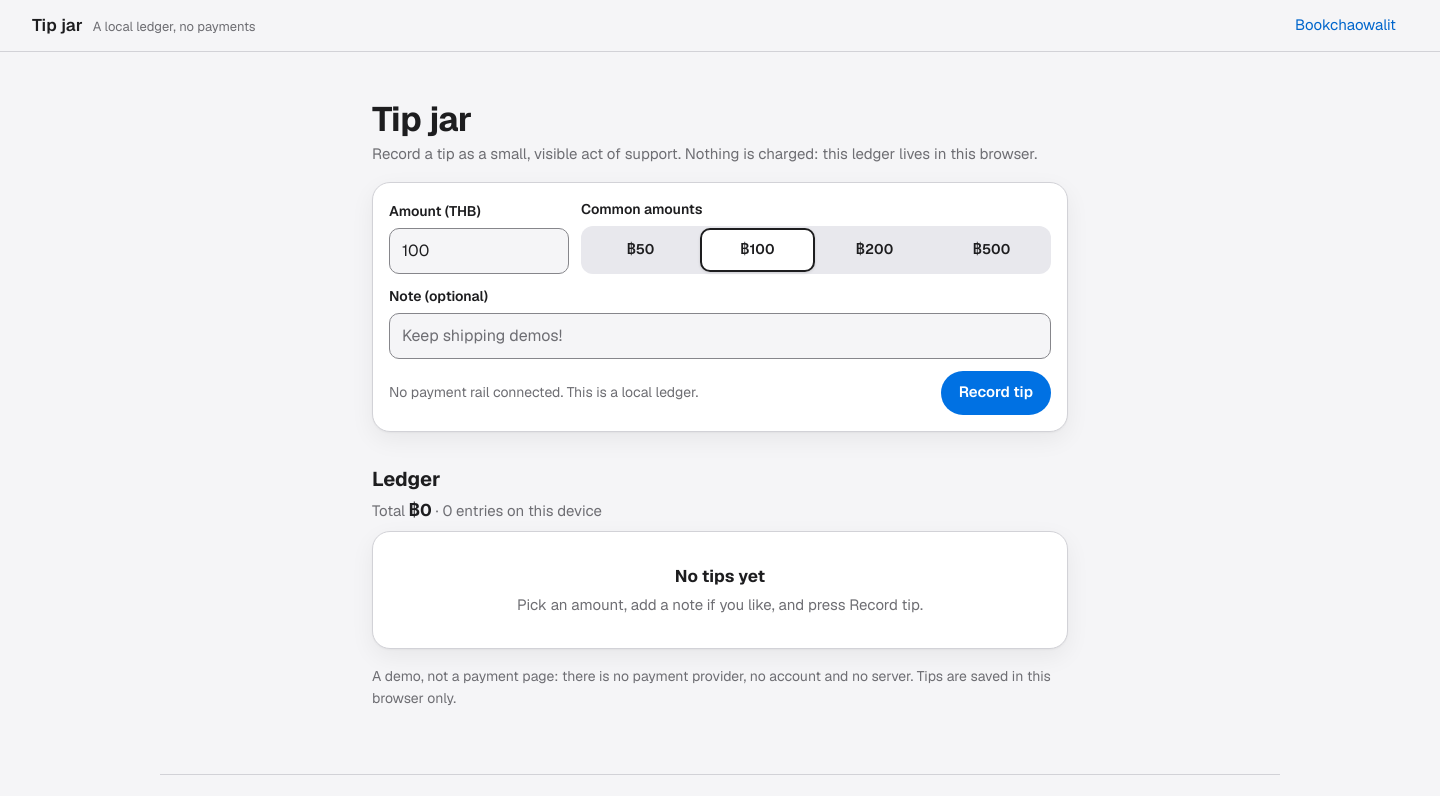
it: batch Undo › a remove then a clear inside the window restore together, keeping a tip recorded in between
The width and height of the screenshot is (1440, 796).
Later steps or results of the test are not shown.
Click the button "฿50" at (640, 250), box x1=583 y1=228 x2=698 y2=272
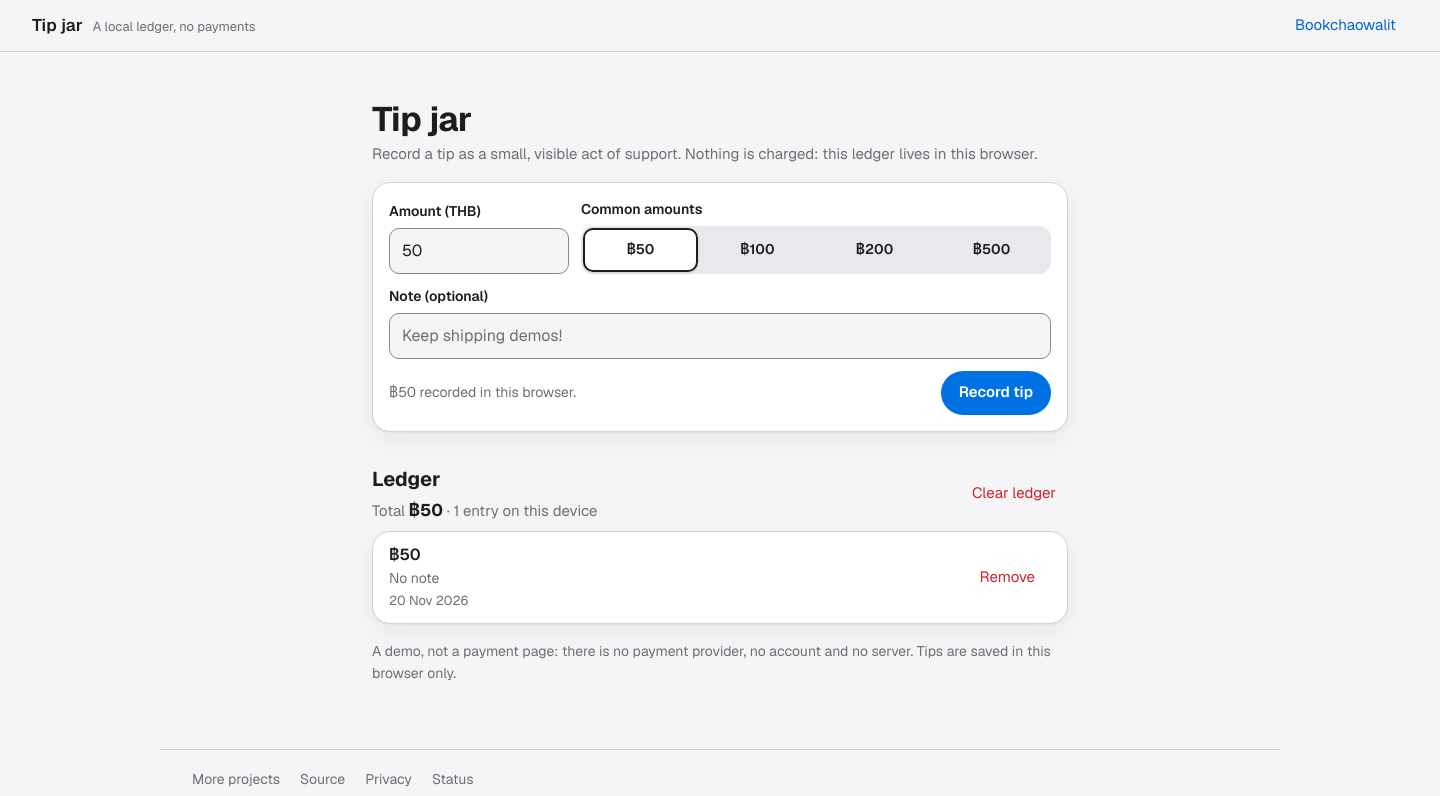
Click the button "฿100" at (758, 250), box x1=700 y1=228 x2=815 y2=272
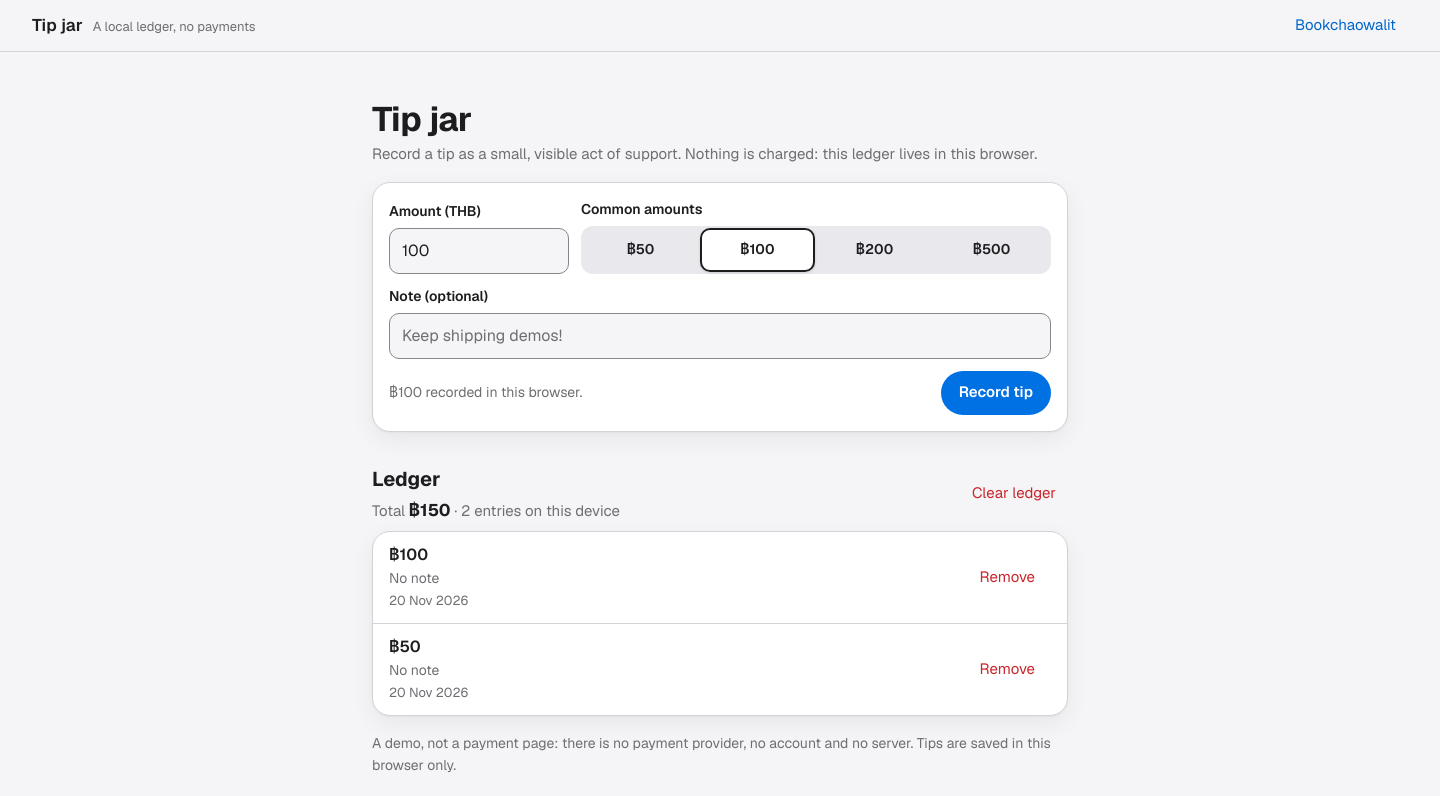
Click the 3rd button with class "as-danger" at (1007, 669), box x1=968 y1=647 x2=1047 y2=691
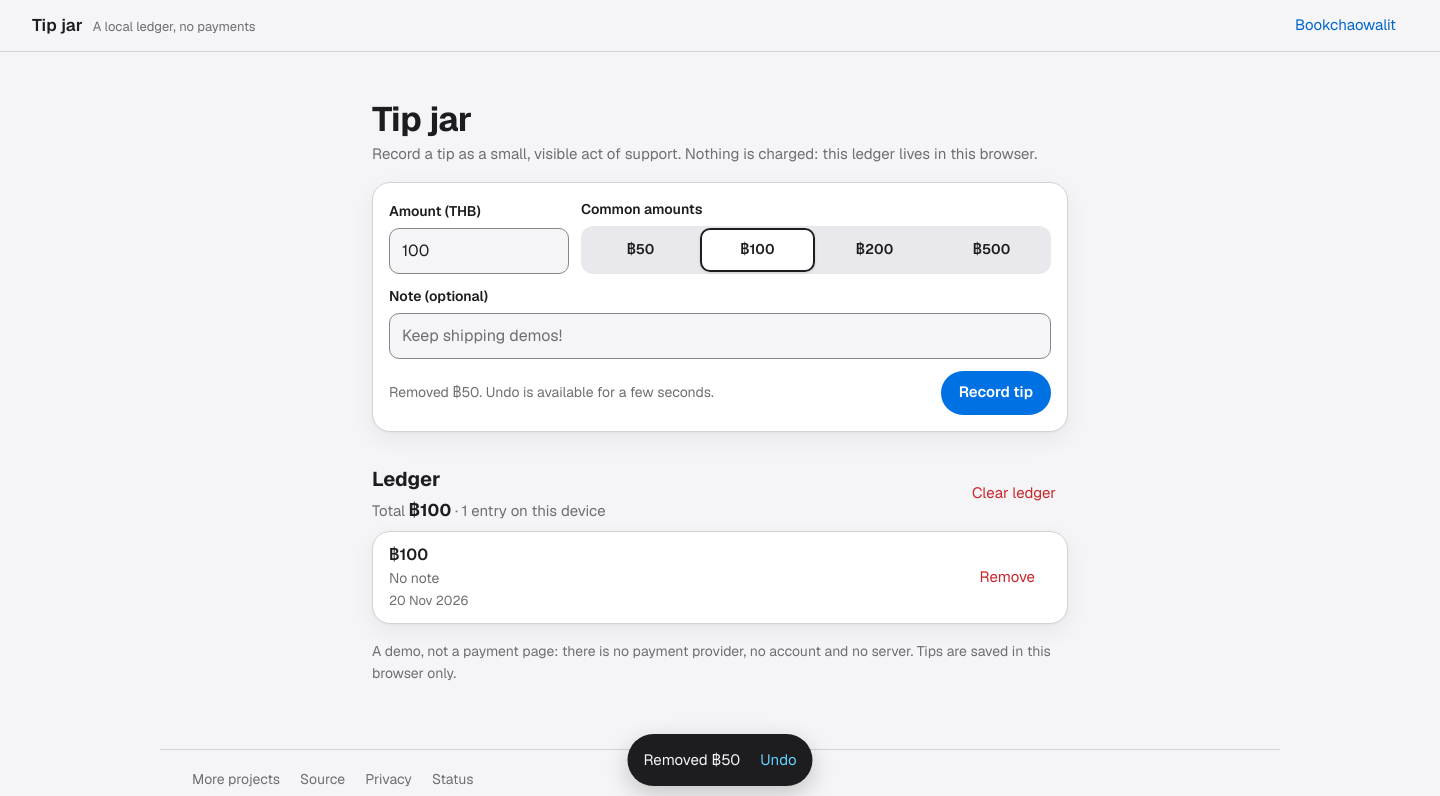
Click the button "฿500" at (992, 250), box x1=934 y1=228 x2=1049 y2=272
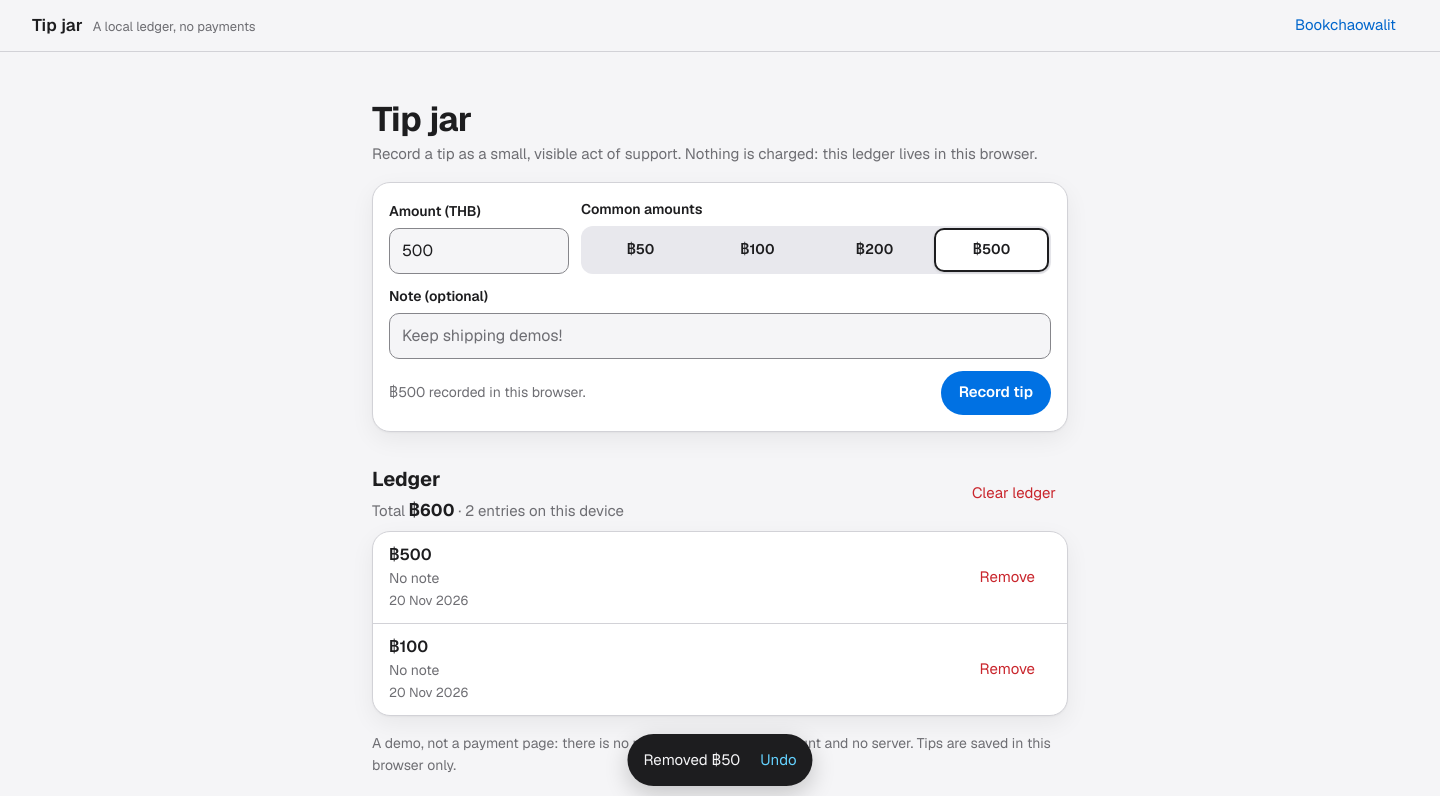
Click the button "Clear ledger" at (1014, 493), box x1=960 y1=471 x2=1068 y2=515
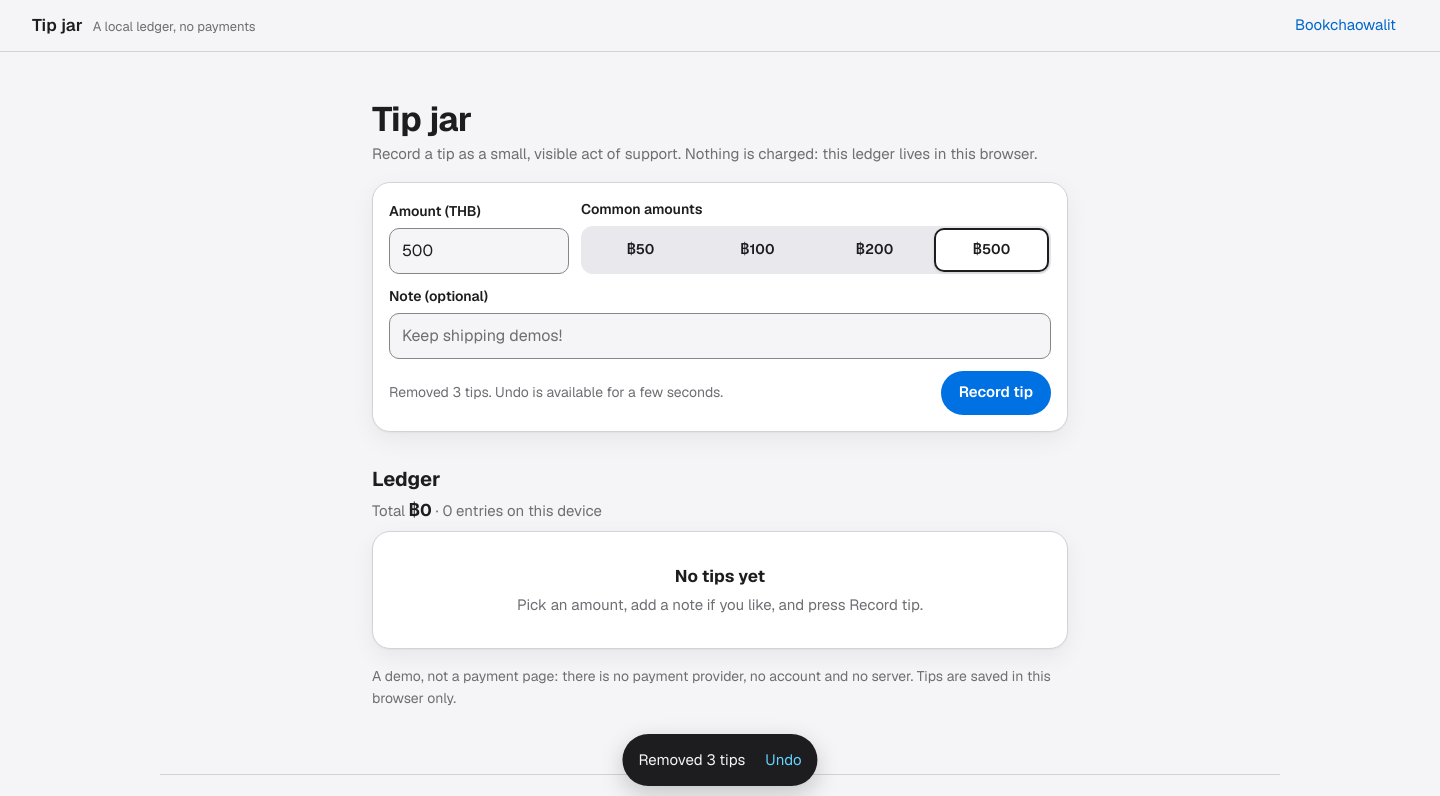
Check: the text "Removed 3 tips" is shown, box x1=638 y1=749 x2=745 y2=771
